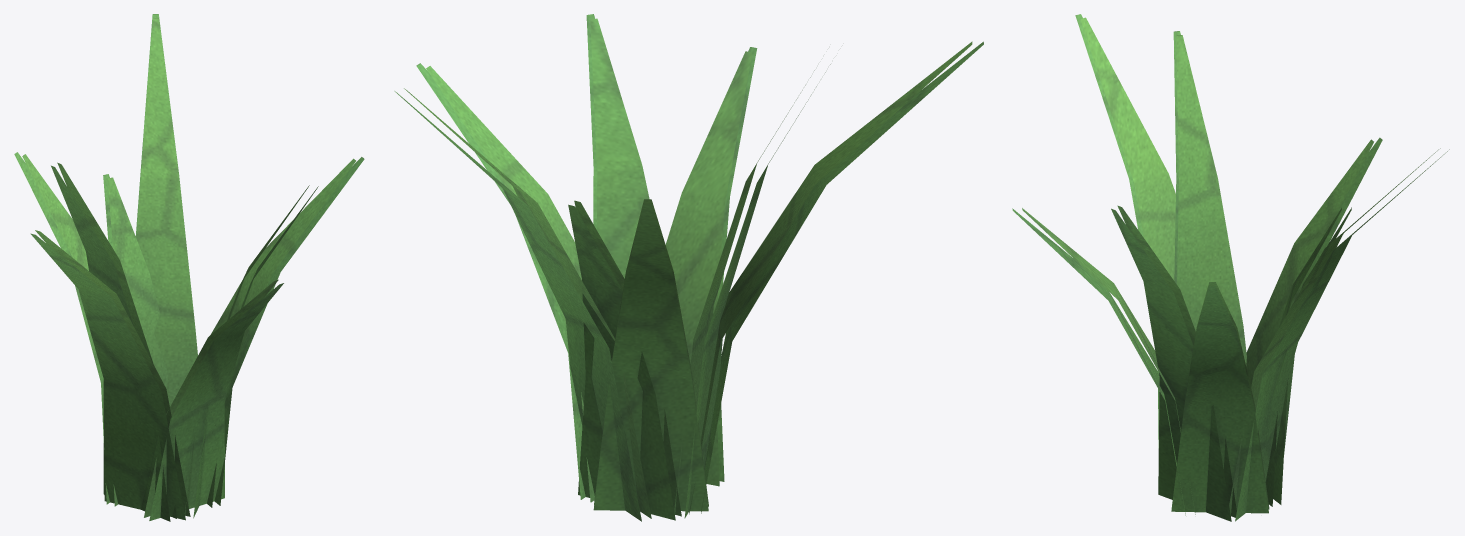
Rendered from WM_GrassTuft_B.fbx.
3 renders of one model, left to right at view 1: azimuth 30°, elevation 25°; view 2: azimuth 150°, elevation 25°; view 3: azimuth 270°, elevation 25°, orthographic. The views are drawn at different scales.
Visible parts, largest first — view 1: WM_GrassTuft_B_LOD0; view 2: WM_GrassTuft_B_LOD0; view 3: WM_GrassTuft_B_LOD0.
Boxes of the visible parts, x1,y1,x2,y2 form: WM_GrassTuft_B_LOD0: (14, 14, 364, 521); WM_GrassTuft_B_LOD0: (394, 14, 983, 521); WM_GrassTuft_B_LOD0: (1012, 14, 1449, 521).
Size of what is drawn, in the model's own units: 0.2935 by 0.2683 by 0.2689.
